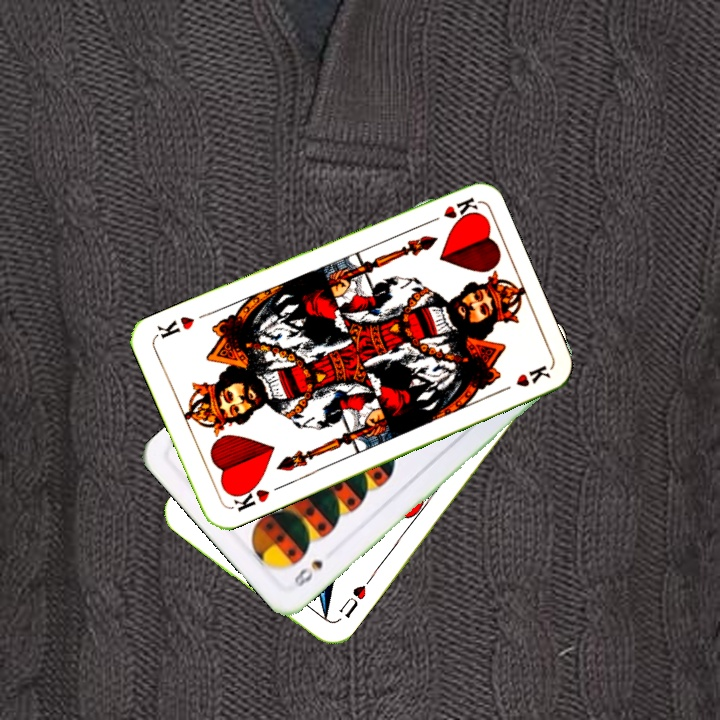HK: (421, 193, 479, 228), (227, 479, 272, 515)
HU: (335, 575, 373, 621)
S8: (290, 556, 326, 590)
